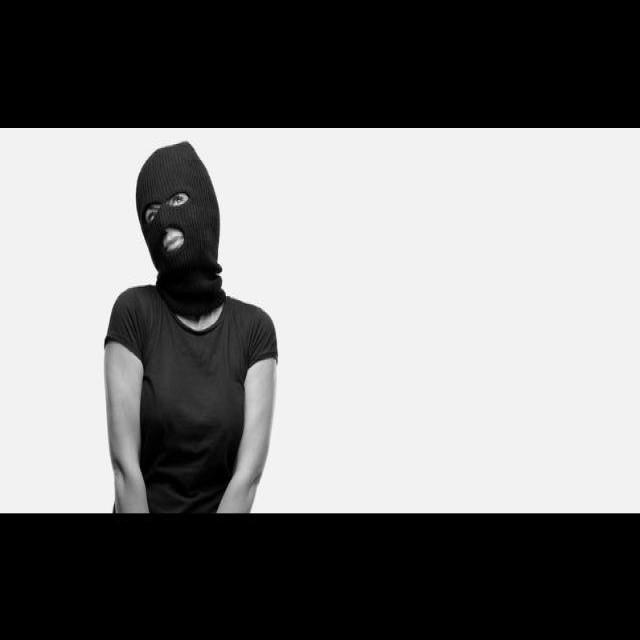6_pasamontana: (137, 139, 227, 314)
